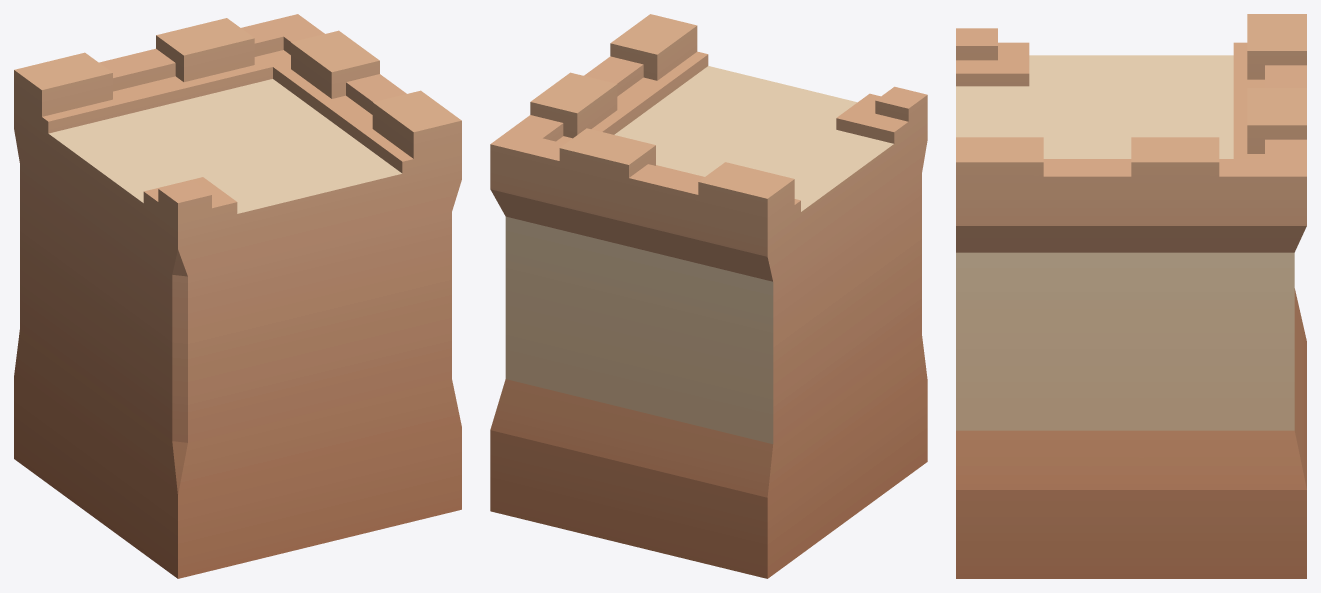
Rendered from wall-corner.glb.
3 views of the same model, side by side, from view 1: azimuth 30°, elevation 25°; view 2: azimuth 150°, elevation 25°; view 3: azimuth 270°, elevation 25° (orthographic). The views are drawn at different scales.
Visible parts, largest first — view 1: wall-corner; view 2: wall-corner; view 3: wall-corner.
Boxes of the visible parts, bbox=[...] form: wall-corner: bbox=[14, 14, 461, 578]; wall-corner: bbox=[490, 14, 927, 578]; wall-corner: bbox=[956, 14, 1306, 578].
Bounding box in the file's own units: 1 × 1.31 × 1.
Materials: 1 (1 with a texture image).
